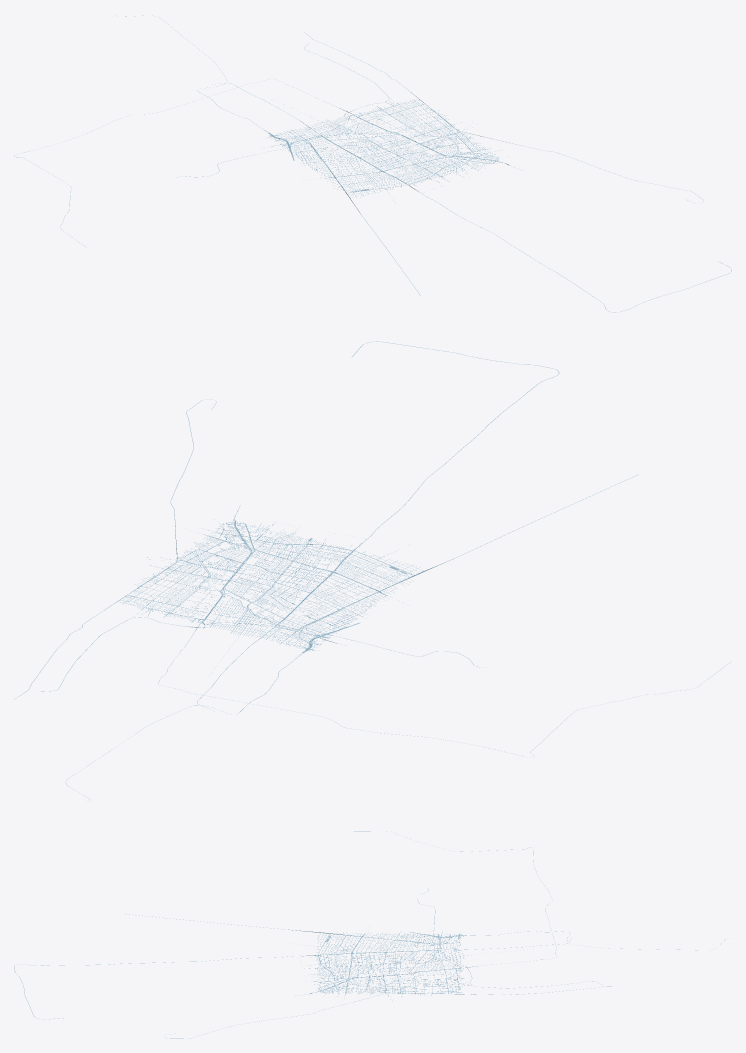
The model's file is roads.glb.
3 renders of one model, top to bottom at view 1: azimuth 30°, elevation 25°; view 2: azimuth 150°, elevation 25°; view 3: azimuth 270°, elevation 25°, orthographic. The views are drawn at different scales.
Visible parts, largest first — view 1: roads; view 2: roads; view 3: roads.
Part boxes in pixels (x1,y1,x2,y2): roads: [14, 14, 731, 312]; roads: [14, 341, 731, 799]; roads: [14, 831, 725, 1038].
Size of the model in its own units: 18811 by 80.42 by 27451.
